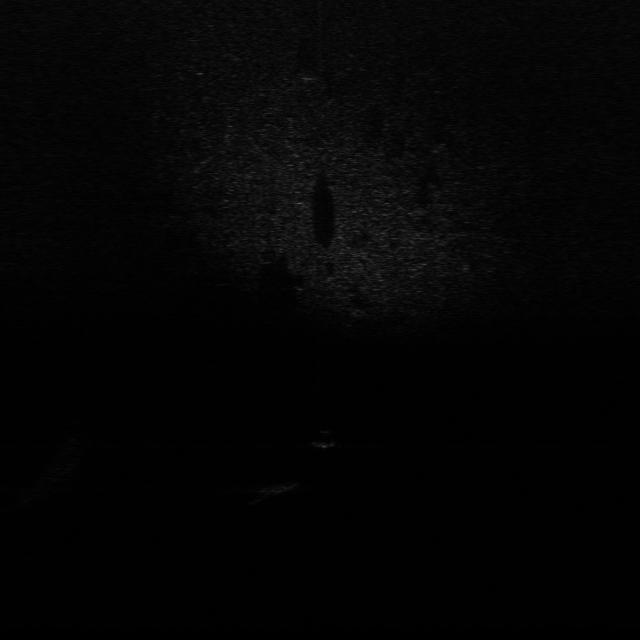ball: (313, 425, 341, 448)
square cage: (251, 474, 303, 497)
